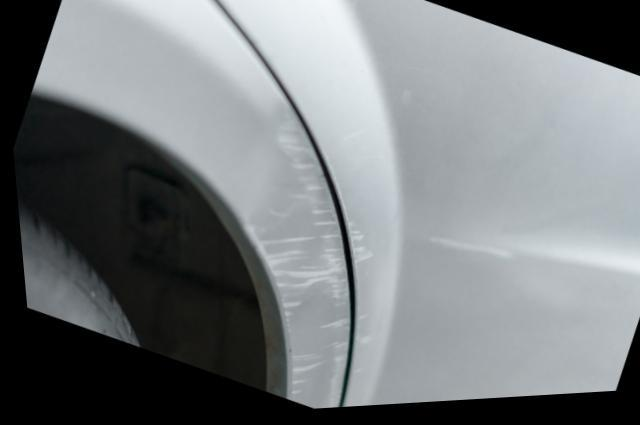scratch: (236, 123, 346, 394)
